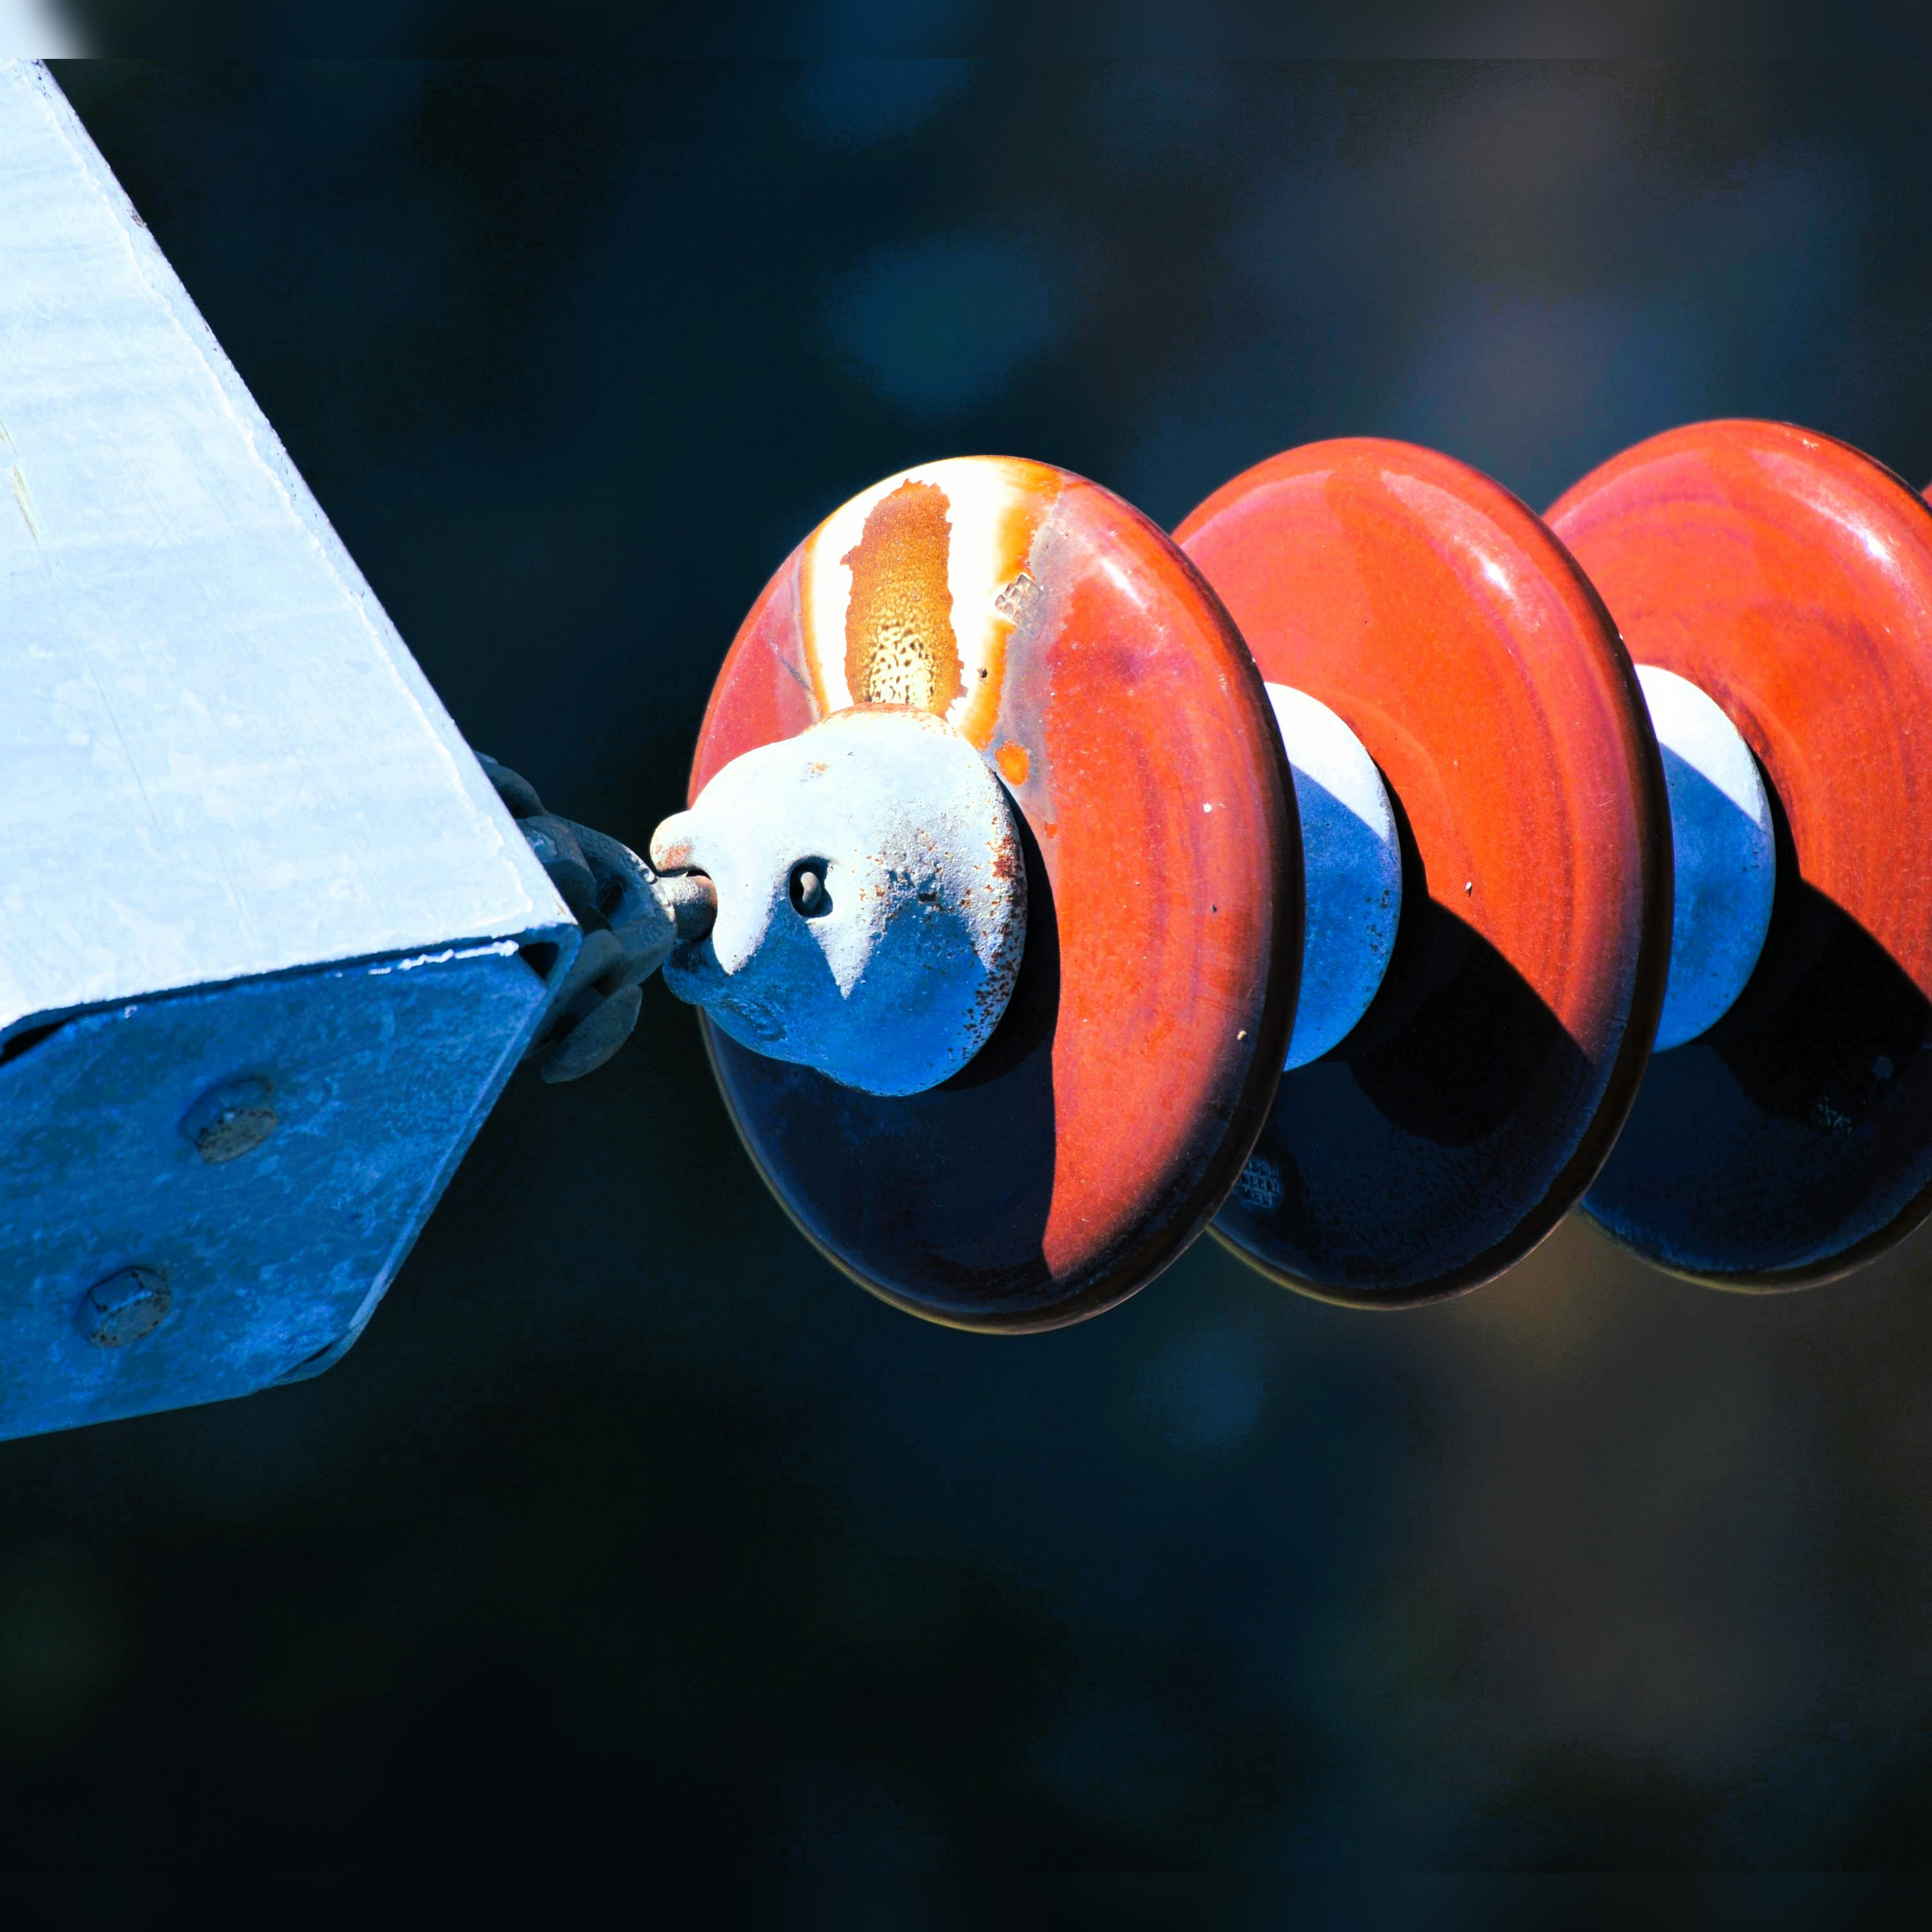Insulator flashover: (649, 421, 1320, 1375)
